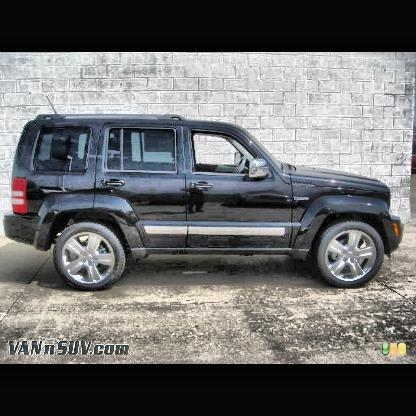Jeep Liberty SUV 2012: (3, 112, 405, 294)
